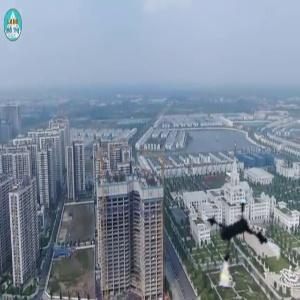drone: (194, 201, 284, 291)
